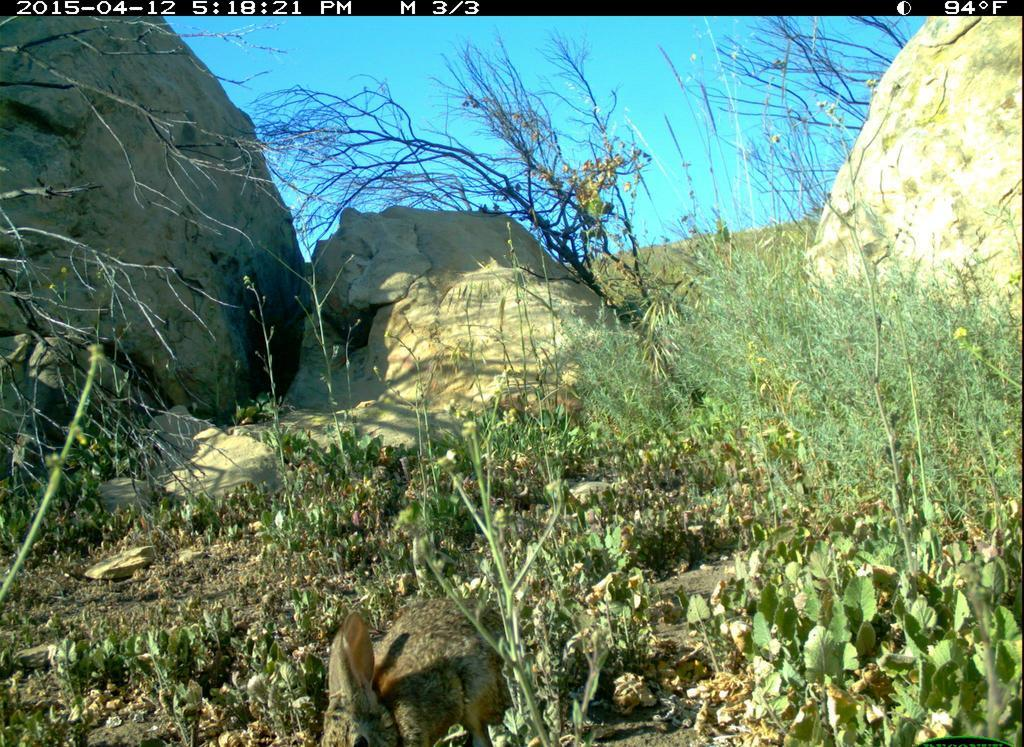rabbit: (312, 589, 534, 747)
